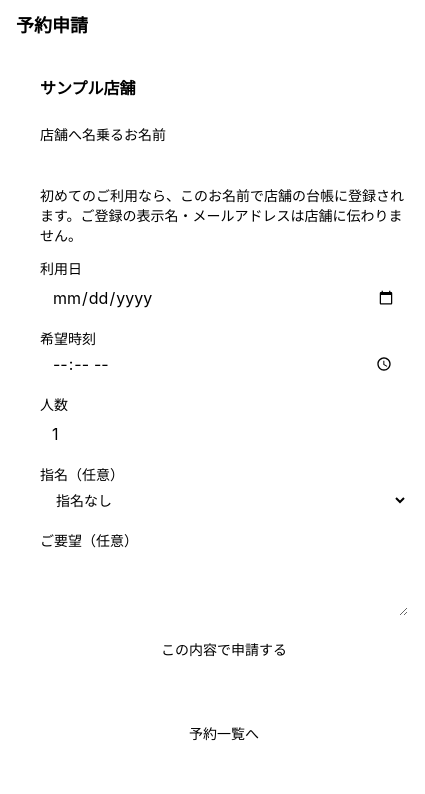
Scenario: MemberReservationNewPage › 出勤情報の取得に失敗したら「出勤なし」ではなくエラーを出し、再読み込みで復帰できる
In the date field labelled "利用日": (224, 298) [40, 280, 408, 316], type "2026-08-10"
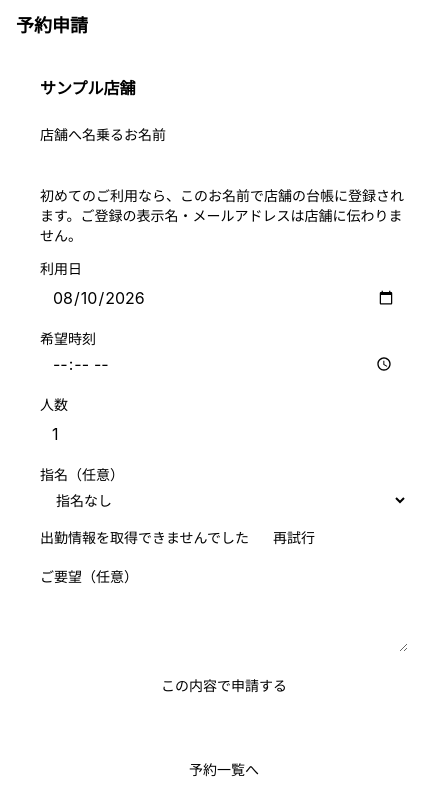
Check: the text "出勤情報を取得できませんでした" is shown, box [40, 528, 249, 548]
Check: the button "この内容で申請する" is disabled, box [40, 668, 408, 704]
Click the button "再試行": (294, 538) [261, 522, 327, 554]
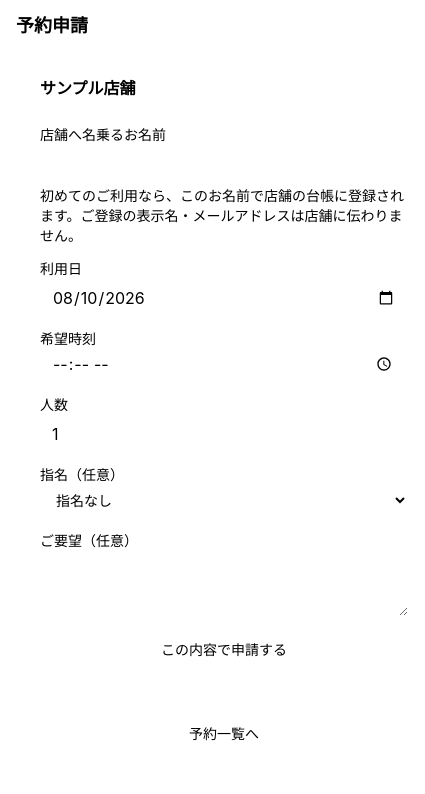
Check: the text "出勤情報を取得できませんでした" is gone
Check: the button "この内容で申請する" is enabled, box [40, 632, 408, 668]
